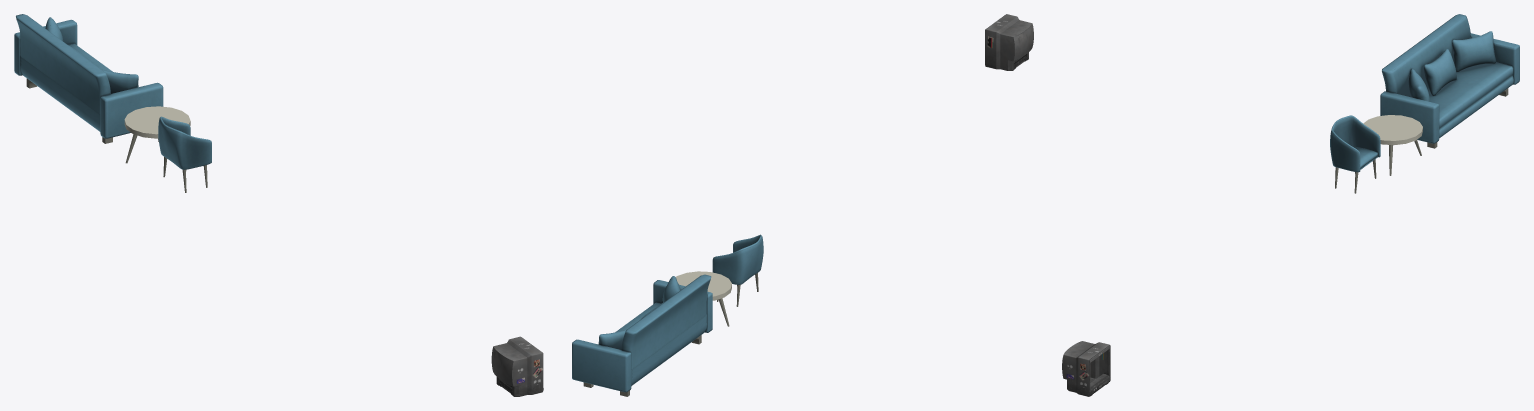
File: Loc2_Recreation_room.fbx
The picture shows the model from 3 angles, left to right: view 1: azimuth 30°, elevation 25°; view 2: azimuth 150°, elevation 25°; view 3: azimuth 330°, elevation 25°; orthographic projection. The views are drawn at different scales.
Parts seen in each view (by area): view 1: Sofa, Object_4, Chair, Table_Mini; view 2: Sofa, Object_4, Chair, Table_Mini; view 3: Sofa, Chair, Object_4, Table_Mini.
Boxes of the visible parts, box(x1,y1,x2,y2) form: Sofa: box(14, 14, 163, 143); Object_4: box(491, 336, 543, 396); Chair: box(158, 116, 211, 192); Table_Mini: box(124, 106, 190, 163); Sofa: box(572, 274, 712, 396); Object_4: box(985, 14, 1033, 70); Chair: box(712, 234, 763, 306); Table_Mini: box(675, 271, 731, 326); Sofa: box(1380, 14, 1519, 148); Chair: box(1330, 115, 1380, 193); Object_4: box(1062, 341, 1110, 396); Table_Mini: box(1363, 115, 1422, 175).
Size of the model in its own units: 126 by 126 by 1485.
Materials: 4 (4 with a texture image).
